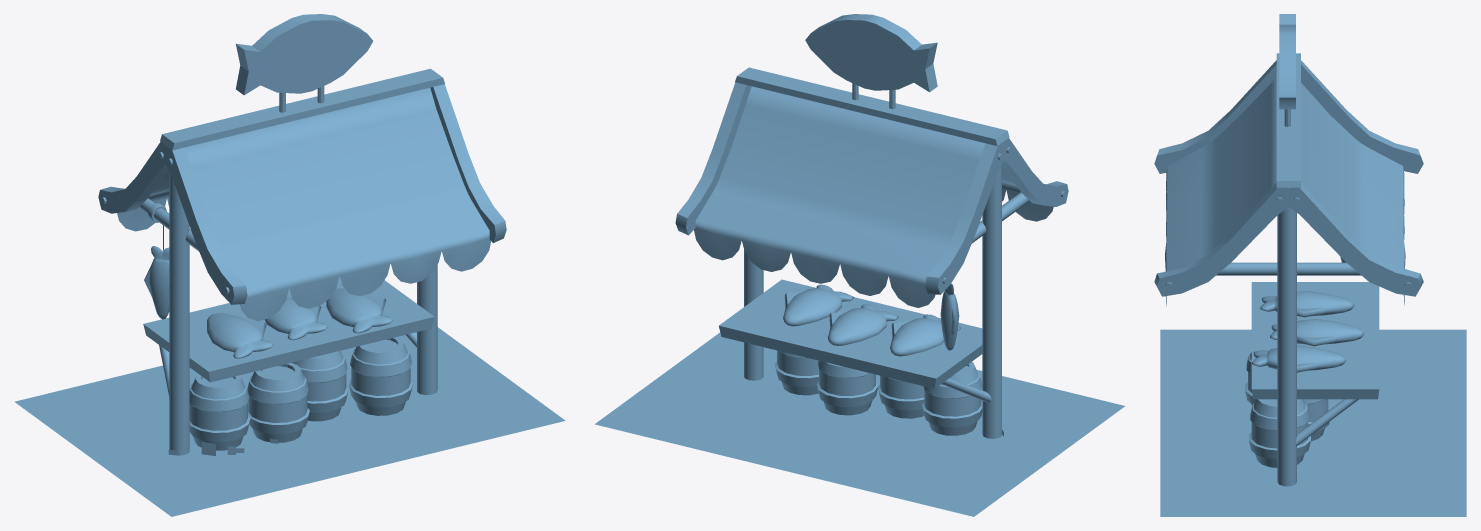
The model's file is fishstalllow.fbx.
The picture shows the model from 3 angles, left to right: view 1: azimuth 30°, elevation 25°; view 2: azimuth 150°, elevation 25°; view 3: azimuth 270°, elevation 25°; orthographic projection. The views are drawn at different scales.
Visible parts, largest first — view 1: tarp_low, plane_low, table_low, arch_low, woodfish_low, bigsupports_low, topwood_low, barrel2_low, barrel4_low, barrel1_low, barrel3_low, fish1_low (+3 smaller); view 2: tarp_low, plane_low, table_low, arch_low, woodfish_low, bigsupports_low, topwood_low, barrel1_low, barrel3_low, fish2_low, fish3_low, fish1_low (+3 smaller); view 3: plane_low, tarp_low, arch_low, table_low, bigsupports_low, topwood_low, barrel4_low, woodfish_low, sidesupports_low, fish2_low, fish1_low, fish3_low (+2 smaller).
Boxes of the visible parts, bbox=[...] form: tarp_low: bbox=[117, 87, 490, 321]; plane_low: bbox=[14, 327, 565, 516]; table_low: bbox=[143, 276, 434, 382]; arch_low: bbox=[98, 84, 506, 304]; woodfish_low: bbox=[236, 14, 373, 95]; bigsupports_low: bbox=[169, 172, 437, 455]; topwood_low: bbox=[160, 68, 444, 150]; barrel2_low: bbox=[247, 362, 309, 442]; barrel4_low: bbox=[349, 337, 412, 415]; barrel1_low: bbox=[189, 374, 250, 450]; barrel3_low: bbox=[292, 350, 348, 421]; fish1_low: bbox=[207, 313, 273, 358]; tarp_low: bbox=[694, 86, 1053, 307]; plane_low: bbox=[595, 332, 1124, 516]; table_low: bbox=[719, 279, 982, 388]; arch_low: bbox=[675, 82, 1068, 294]; woodfish_low: bbox=[805, 14, 937, 92]; bigsupports_low: bbox=[744, 164, 1001, 438]; topwood_low: bbox=[735, 67, 1009, 145]; barrel1_low: bbox=[922, 362, 982, 435]; barrel3_low: bbox=[816, 360, 878, 415]; fish2_low: bbox=[828, 304, 898, 345]; fish3_low: bbox=[783, 284, 853, 326]; fish1_low: bbox=[890, 314, 960, 356]; plane_low: bbox=[1160, 329, 1466, 516]; tarp_low: bbox=[1165, 75, 1405, 306]; arch_low: bbox=[1154, 60, 1423, 296]; table_low: bbox=[1251, 282, 1379, 399]; bigsupports_low: bbox=[1277, 207, 1296, 486]; topwood_low: bbox=[1276, 53, 1300, 188]; barrel4_low: bbox=[1249, 399, 1310, 467]; woodfish_low: bbox=[1279, 14, 1295, 109]; sidesupports_low: bbox=[1216, 262, 1361, 275]; fish2_low: bbox=[1270, 319, 1364, 346]; fish1_low: bbox=[1260, 291, 1354, 317]; fish3_low: bbox=[1252, 345, 1346, 372].
Bounding box in the file's own units: 134 × 134 × 94.72.
